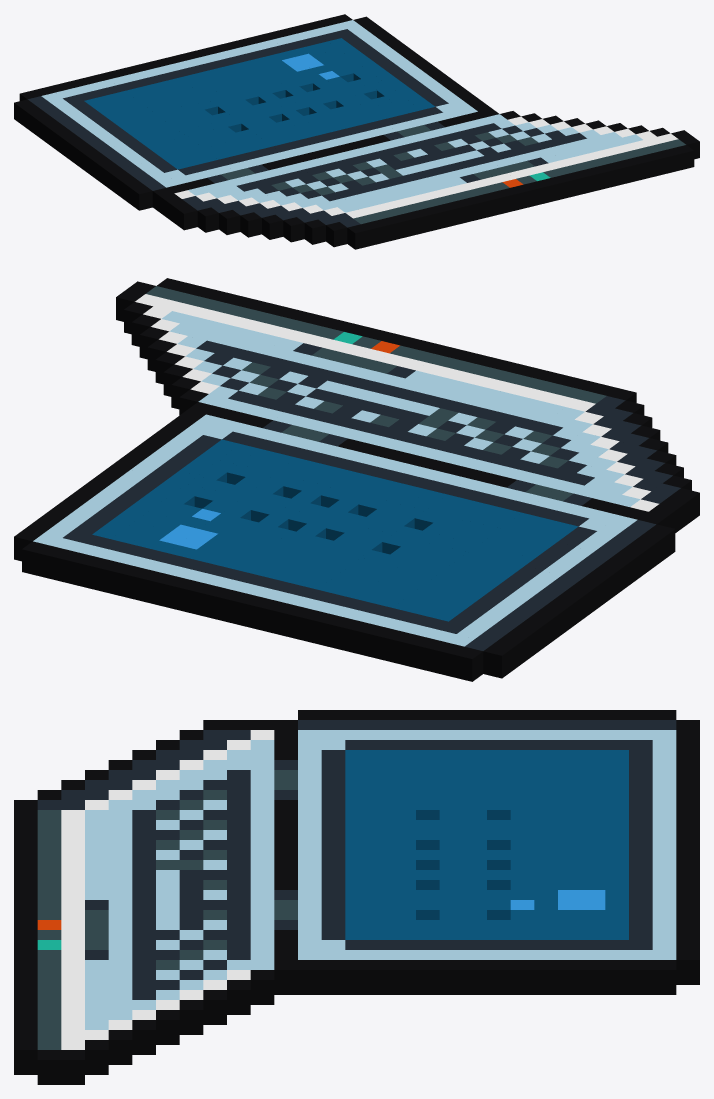
The picture shows the model from 3 angles, top to bottom: view 1: azimuth 30°, elevation 25°; view 2: azimuth 150°, elevation 25°; view 3: azimuth 270°, elevation 25°; orthographic projection. The views are drawn at different scales.
Parts seen in each view (by area): view 1: Curve; view 2: Curve; view 3: Curve.
Part boxes in pixels (x1=…): Curve: x1=14, y1=14, x2=699, y2=249; Curve: x1=14, y1=278, x2=699, y2=681; Curve: x1=14, y1=710, x2=699, y2=1084.
Bounding box in the file's own units: 0.3025 × 0.01 × 0.2506.
